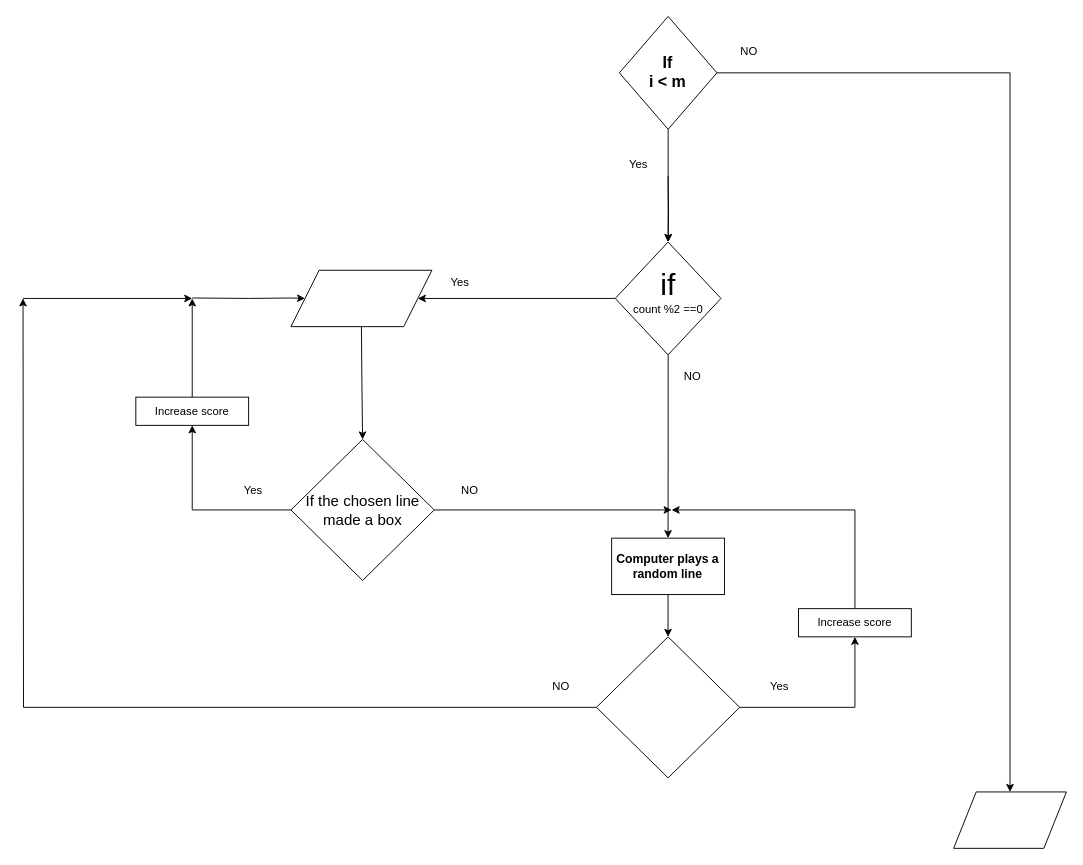
This 1083x865 diagram has some shape labels left out. Each missing label, with the centre of its shape:
If the random line made a box: the point at 667,707
Player choose a line: the point at 361,298
Print the winner: the point at 1009,819
